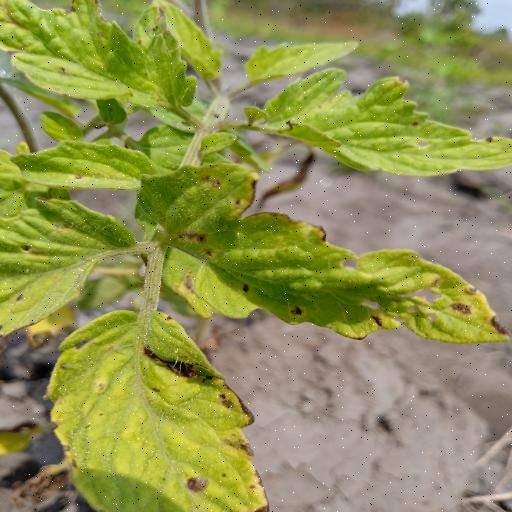Tomato_Brown_Spots: (166, 210, 512, 346), (43, 306, 270, 512), (234, 66, 512, 179), (0, 0, 199, 121), (0, 192, 147, 335)
